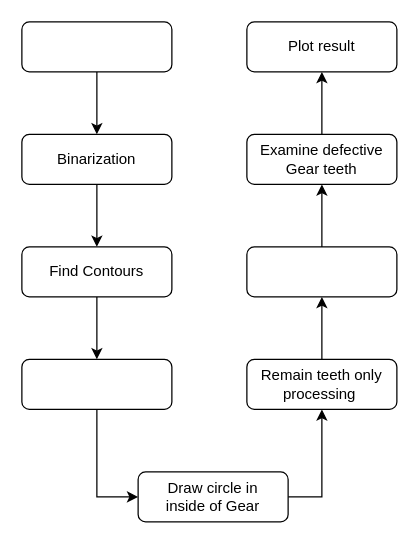
Some shapes in this 419 by 544 pixel diagram are drawn without their labels. Here are the shapes that lost their labels. From the top down, the centre of each, then its label:
At point (96, 46): "Load Image".
At point (321, 271): "Draw Contours".
At point (96, 383): "Find center of Gear using Contours".
